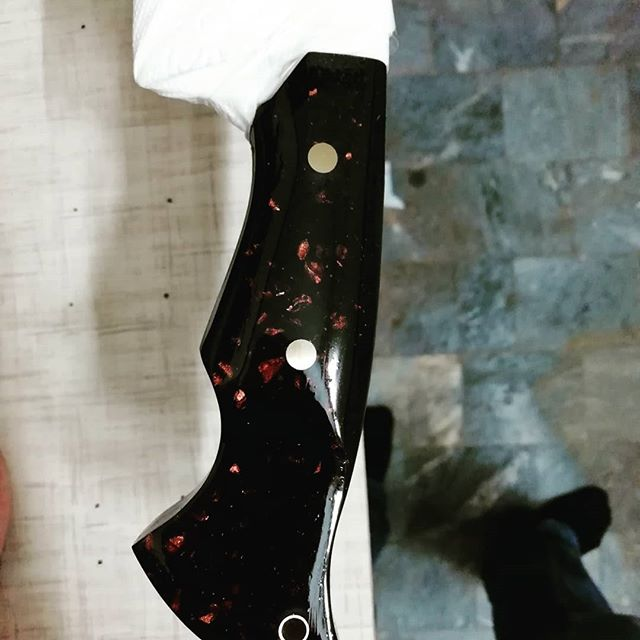knife: (133, 1, 396, 639)
